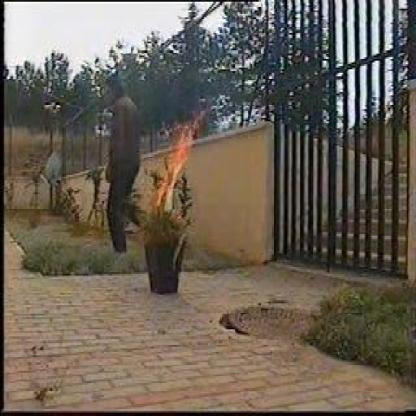foggia-v2-map80-epoch100 - v1 4323: (164, 142, 186, 184)
